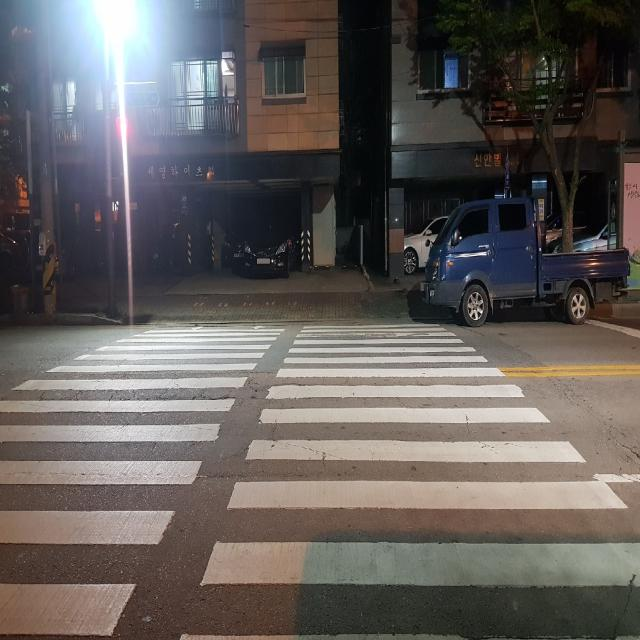횡단보도: (0, 322, 640, 640)
